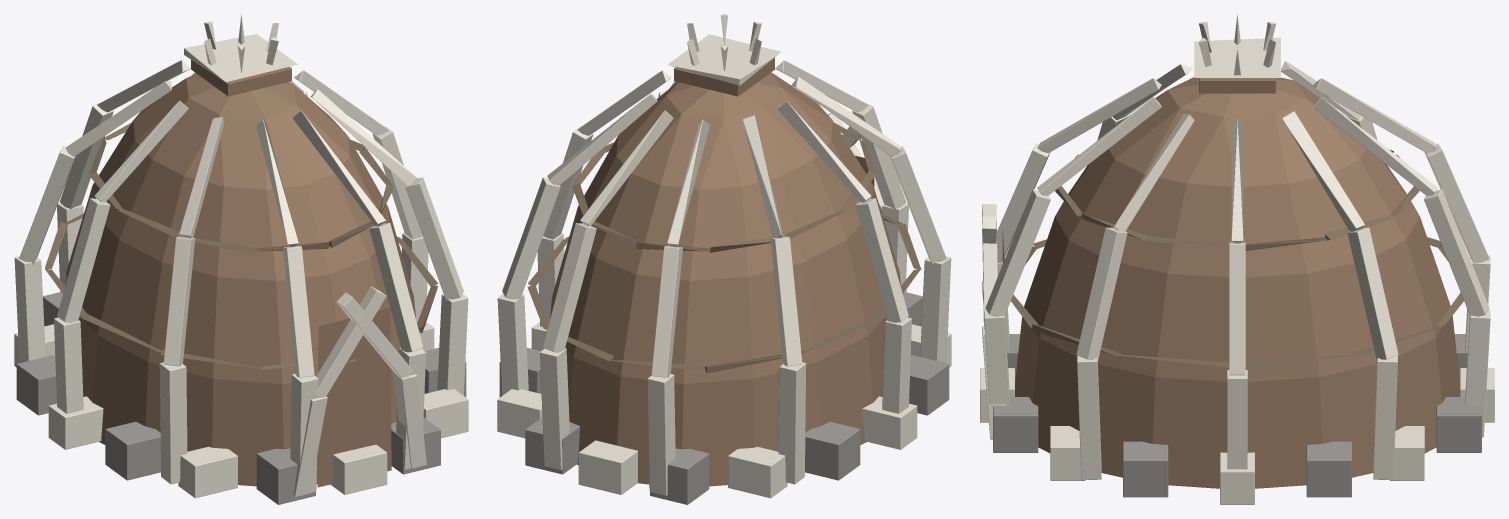
Rendered from House_Paleo_a.glb.
3 views of the same model, side by side, from view 1: azimuth 30°, elevation 25°; view 2: azimuth 150°, elevation 25°; view 3: azimuth 270°, elevation 25° (orthographic). The views are drawn at different scales.
Parts seen in each view (by area): view 1: House_Paleo_a; view 2: House_Paleo_a; view 3: House_Paleo_a.
Part boxes in pixels (x1=…): House_Paleo_a: x1=14, y1=14, x2=468, y2=504; House_Paleo_a: x1=497, y1=14, x2=951, y2=504; House_Paleo_a: x1=980, y1=14, x2=1494, y2=504.
Size of what is drawn, in the model's own units: 4.3 by 4.12 by 5.02.
